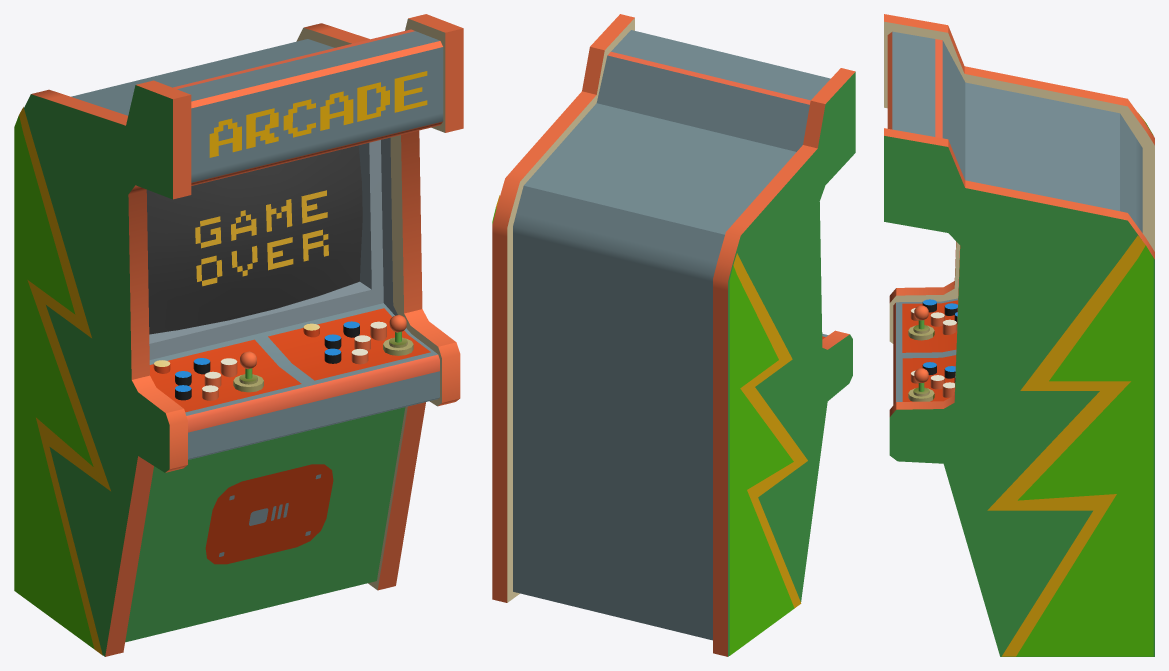
Rendered from Game05.fbx.
3 renders of one model, left to right at view 1: azimuth 30°, elevation 25°; view 2: azimuth 150°, elevation 25°; view 3: azimuth 270°, elevation 25°, orthographic. The views are drawn at different scales.
Parts seen in each view (by area): view 1: Game05; view 2: Game05; view 3: Game05.
Boxes of the visible parts, x1,y1,x2,y2 form: Game05: [14, 14, 463, 656]; Game05: [492, 14, 855, 656]; Game05: [884, 14, 1154, 656].
Size of the model in its own units: 41.75 by 82.66 by 38.93.
